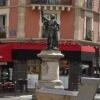Statue: (34, 6, 72, 54)
